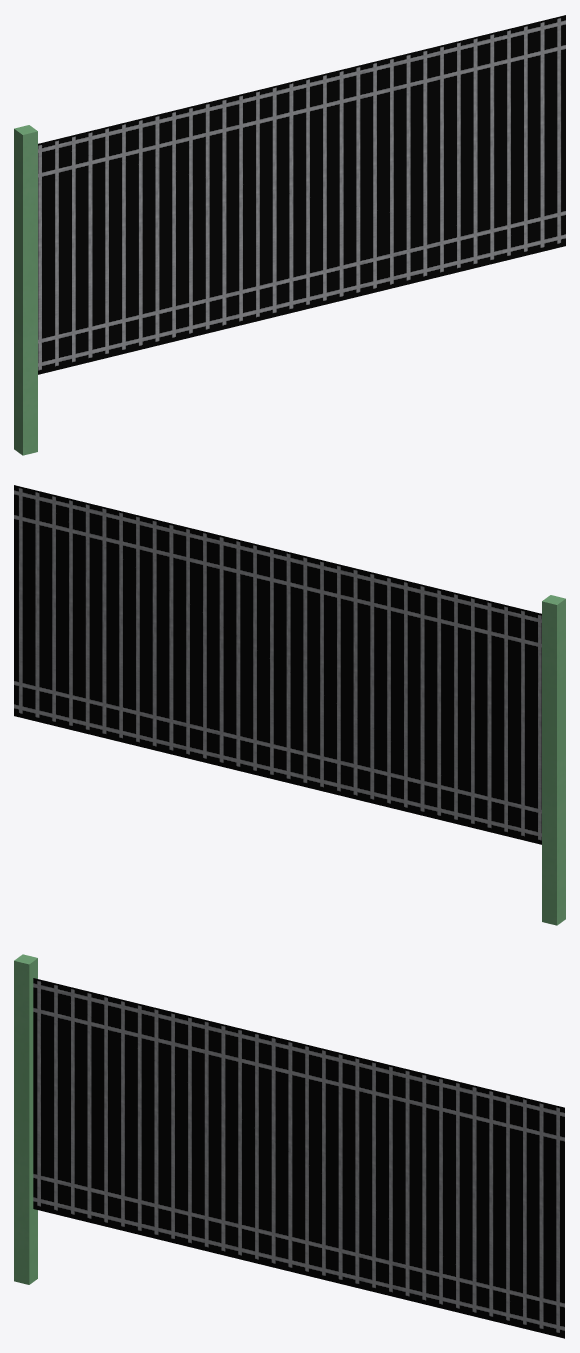
File: fence-mesh-1s-cbj_LOD00.gltf
The picture shows the model from 3 angles, top to bottom: view 1: azimuth 30°, elevation 25°; view 2: azimuth 150°, elevation 25°; view 3: azimuth 330°, elevation 25°; orthographic projection.
Visible parts, largest first — view 1: post; view 2: post; view 3: post.
Part boxes in pixels (bbox=[...]): post: bbox=[14, 15, 565, 455]; post: bbox=[14, 485, 565, 925]; post: bbox=[14, 954, 564, 1338].
Size of the model in its own units: 2.5 by 1.4 by 0.07.
